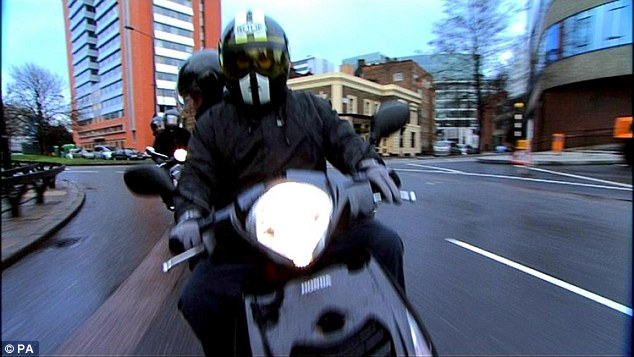with_helmet: (221, 8, 289, 99)
